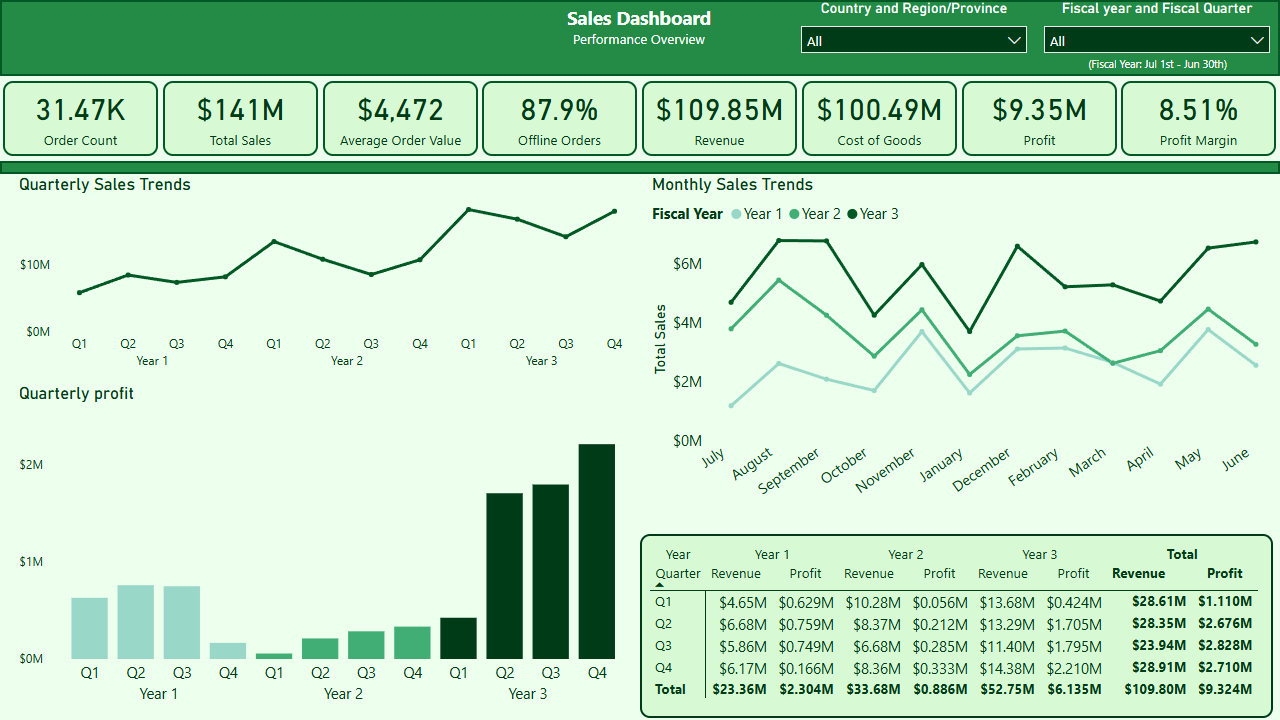

This screenshot's page, from the dashboard's own definition file:
{"tool":"powerbi","page":{"name":"KPIs","canvas":[1280,720],"ordinal":0},"visuals":[{"type":"shape","box":[0,0,1280,76],"z":0},{"type":"card","fields":{"Values":["CountNonNull(salesorderheader.SalesOrderID)"]},"box":[3.1,80.8,155,75],"z":1000},{"type":"card","fields":{"Values":["Sum(salesorderheader.TotalDue)"]},"box":[162.9,80.8,155,75],"z":2000},{"type":"card","fields":{"Values":["SalesOrderDetail.Profit"]},"box":[961.7,80.8,155,75],"z":3000},{"type":"card","fields":{"Values":["SalesOrderHeader.OfflineOrdersPercentage"]},"box":[482.4,80.8,155,75],"z":4000},{"type":"lineChart","title":"Quarterly Sales Trends","fields":{"Y":["Sum(salesorderheader.TotalDue)"],"Category":["SalesOrderHeader.FiscalYear","SalesOrderHeader.FiscalQuarter"]},"box":[14,174,625,209],"z":5000},{"type":"lineChart","title":"Monthly Sales Trends","fields":{"Category":["salesorderheader.FiscalMonthName"],"Y":["Sum(SalesOrderHeader.TotalDue)"],"Series":["SalesOrderHeader.FiscalYear"]},"box":[647,174,633,345],"z":6000},{"type":"textbox","box":[546.6,0,184.9,55],"z":7000},{"type":"shape","box":[0,161.5,1280,12.6],"z":8000},{"type":"card","fields":{"Values":["Sum(SalesOrderDetail.LineTotal)"]},"box":[642.2,80.8,155,75],"z":9000},{"type":"card","fields":{"Values":["ProductDetails.COGS"]},"box":[801.9,80.8,155,75],"z":10000},{"type":"card","fields":{"Values":["Avg(salesorderheader.TotalDue)"]},"box":[322.6,80.8,155,75],"z":11000},{"type":"slicer","title":"Fiscal year and Fiscal Quarter","fields":{"Values":["SalesOrderHeader.FiscalYear","SalesOrderHeader.FiscalQuarter"]},"box":[1034.1,0,245.9,64.3],"z":12000},{"type":"slicer","title":"Country and Region/Province","fields":{"Values":["Geographical.CountryName","Geographical.country_state_name"]},"box":[790.8,0,246.1,64.2],"z":13000},{"type":"pivotTable","title":"Revenue and Profit by Year and Quarter","fields":{"Values":["Sum(SalesOrderDetail.LineTotal)","SalesOrderDetail.Profit"],"Columns":["SalesOrderHeader.FiscalYear"],"Rows":["SalesOrderHeader.FiscalQuarter"]},"box":[640,534,633.2,183.8],"z":14000},{"type":"columnChart","title":"Quarterly profit","fields":{"Category":["SalesOrderHeader.FiscalYear","SalesOrderHeader.FiscalQuarter"],"Y":["SalesOrderDetail.Profit"]},"box":[14,383,625,335],"z":15000},{"type":"card","fields":{"Values":["SalesOrderDetail.Profit Margin"]},"box":[1121.5,80.8,155,75],"z":16000},{"type":"textbox","box":[1070.9,48.6,173.1,30.2],"z":17000}]}

Visuals, with their boxes in screenshot pixels (x1, y1, x2, y2), scaled from the page's 1280x720 canvas onto the 1280x720 screenshot:
shape: bbox(0, 0, 1279, 76)
card - CountNonNull(salesorderheader.SalesOrderID): bbox(3, 81, 158, 156)
card - Sum(salesorderheader.TotalDue): bbox(163, 81, 318, 156)
card - SalesOrderDetail.Profit: bbox(962, 81, 1117, 156)
card - SalesOrderHeader.OfflineOrdersPercentage: bbox(482, 81, 637, 156)
"Quarterly Sales Trends" lineChart: bbox(14, 174, 639, 383)
"Monthly Sales Trends" lineChart: bbox(647, 174, 1279, 519)
textbox: bbox(547, 0, 732, 55)
shape: bbox(0, 162, 1279, 174)
card - Sum(SalesOrderDetail.LineTotal): bbox(642, 81, 797, 156)
card - ProductDetails.COGS: bbox(802, 81, 957, 156)
card - Avg(salesorderheader.TotalDue): bbox(323, 81, 478, 156)
"Fiscal year and Fiscal Quarter" slicer: bbox(1034, 0, 1279, 64)
"Country and Region/Province" slicer: bbox(791, 0, 1037, 64)
"Revenue and Profit by Year and Quarter" pivotTable: bbox(640, 534, 1273, 718)
"Quarterly profit" columnChart: bbox(14, 383, 639, 718)
card - SalesOrderDetail.Profit Margin: bbox(1122, 81, 1276, 156)
textbox: bbox(1071, 49, 1244, 79)
